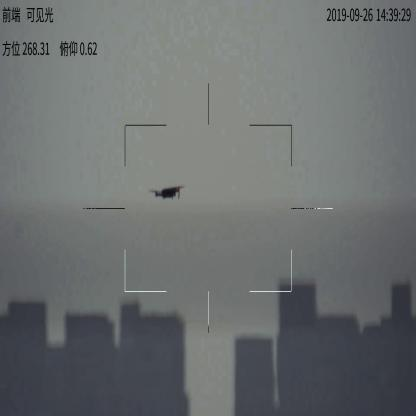uav: (150, 183, 184, 203)
